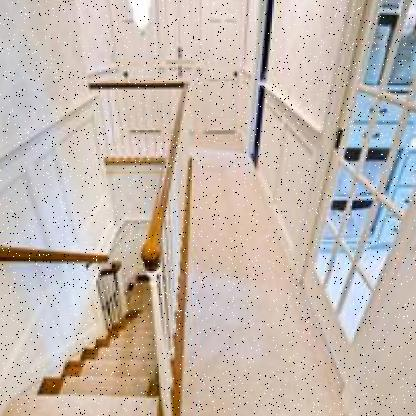stair_down: (31, 294, 167, 406)
